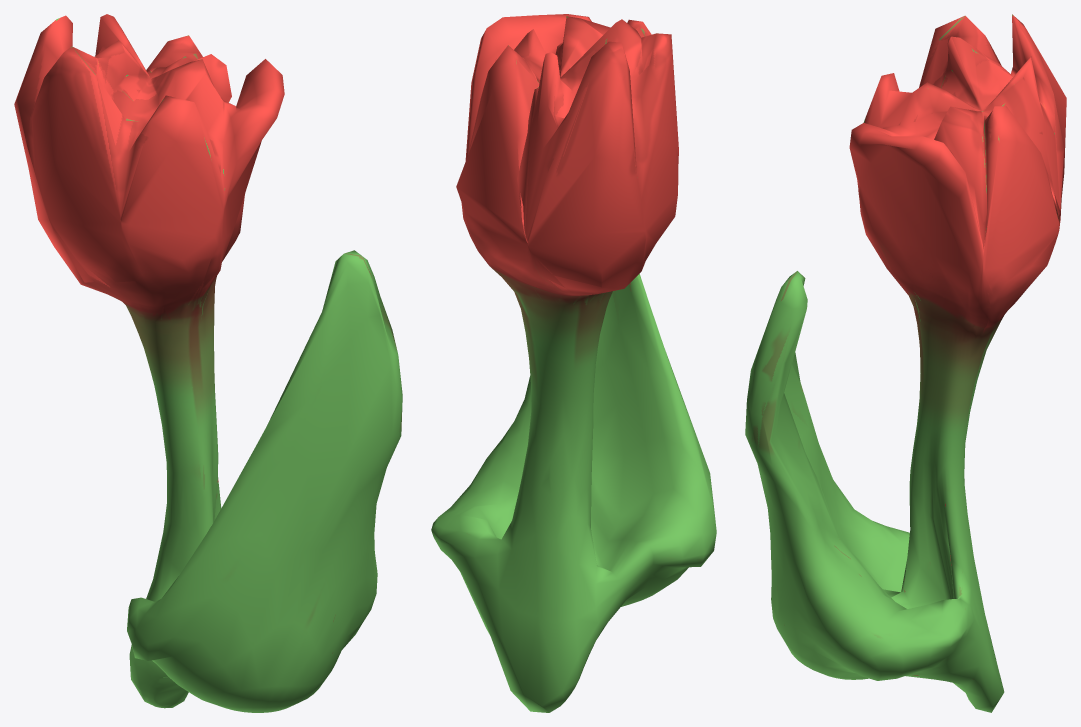
Rendered from tulip.glb.
The picture shows the model from 3 angles, left to right: view 1: azimuth 30°, elevation 25°; view 2: azimuth 150°, elevation 25°; view 3: azimuth 270°, elevation 25°; orthographic projection. The views are drawn at different scales.
Visible parts, largest first — view 1: Sphere; view 2: Sphere; view 3: Sphere.
Part boxes in pixels (x1,y1,x2,y2): Sphere: (14,14,402,712); Sphere: (431,14,716,712); Sphere: (745,14,1066,712).
Bounding box in the file's own units: 2.41 × 6.03 × 2.69.
Materials: 1 (1 with a texture image).
